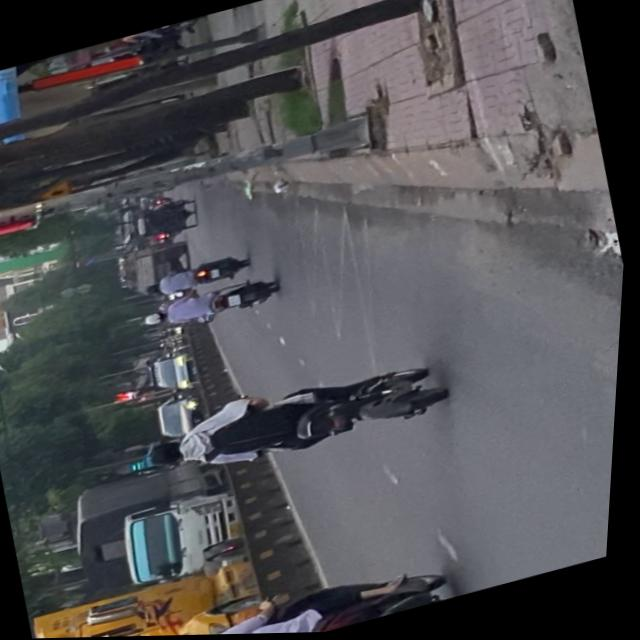helmet: (146, 438, 195, 474)
licenseplate: (138, 346, 462, 495), (158, 553, 472, 637)
